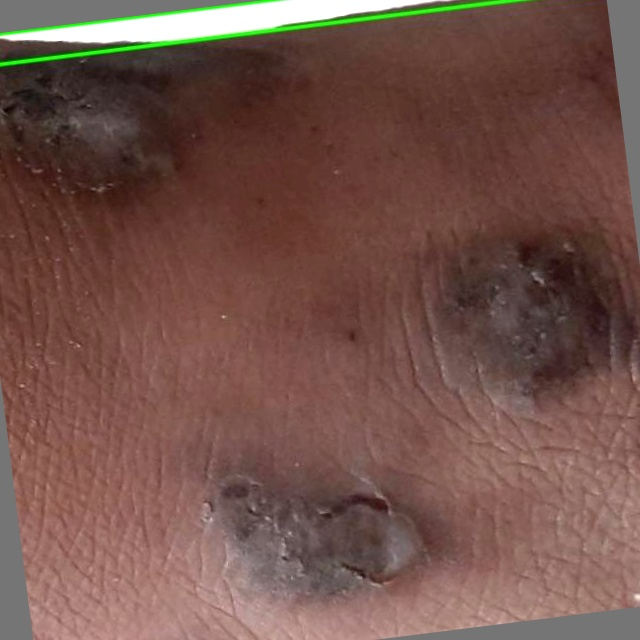Contact Dermatitis: (0, 0, 510, 64)
